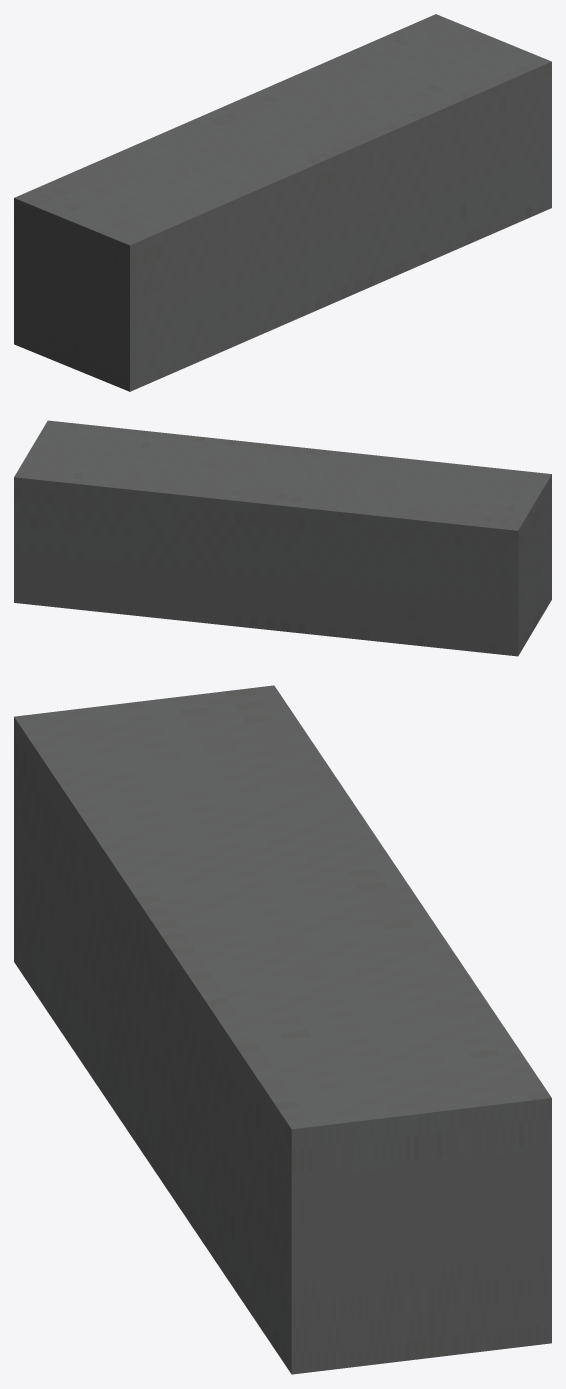
The model's file is prop_chalk-2.glb.
3 views of the same model, one above another, from view 1: azimuth 30°, elevation 25°; view 2: azimuth 150°, elevation 25°; view 3: azimuth 270°, elevation 25° (orthographic). The views are drawn at different scales.
Visible parts, largest first — view 1: prop_chalk-2; view 2: prop_chalk-2; view 3: prop_chalk-2.
Part boxes in pixels (<box>): prop_chalk-2: <box>14,14,551,391</box>; prop_chalk-2: <box>14,420,551,656</box>; prop_chalk-2: <box>14,685,551,1374</box>.
Bounding box in the file's own units: 0.0466 × 0.012 × 0.0239.
1 material, 1 textured.
